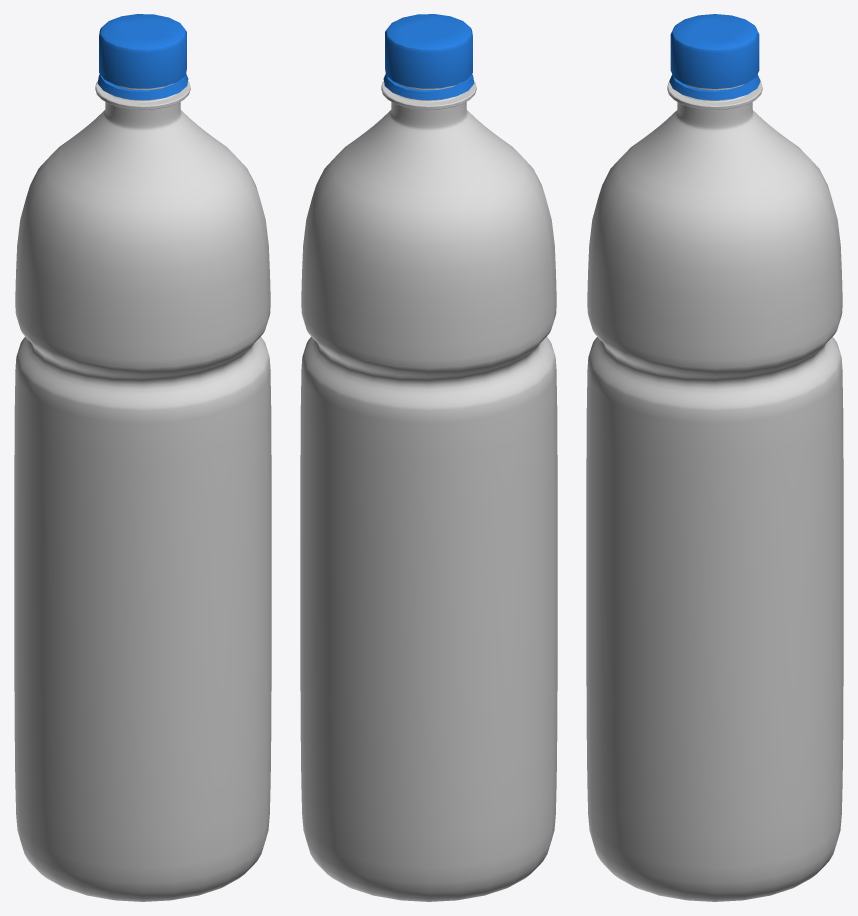
File: Bottle_V1.fbx
3 views of the same model, side by side, from view 1: azimuth 30°, elevation 25°; view 2: azimuth 150°, elevation 25°; view 3: azimuth 270°, elevation 25° (orthographic).
Parts seen in each view (by area): view 1: Bottle_Body, Bottle_Cap; view 2: Bottle_Body, Bottle_Cap; view 3: Bottle_Body, Bottle_Cap.
Part boxes in pixels (box(x1,y1,x2,y2)): Bottle_Body: box(14, 81, 271, 901); Bottle_Cap: box(97, 14, 188, 100); Bottle_Body: box(300, 81, 557, 901); Bottle_Cap: box(383, 14, 474, 100); Bottle_Body: box(586, 81, 843, 901); Bottle_Cap: box(669, 14, 760, 100).
Bounding box in the file's own units: 168 × 602 × 168.
